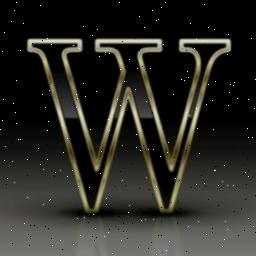w: (14, 24, 240, 222)
